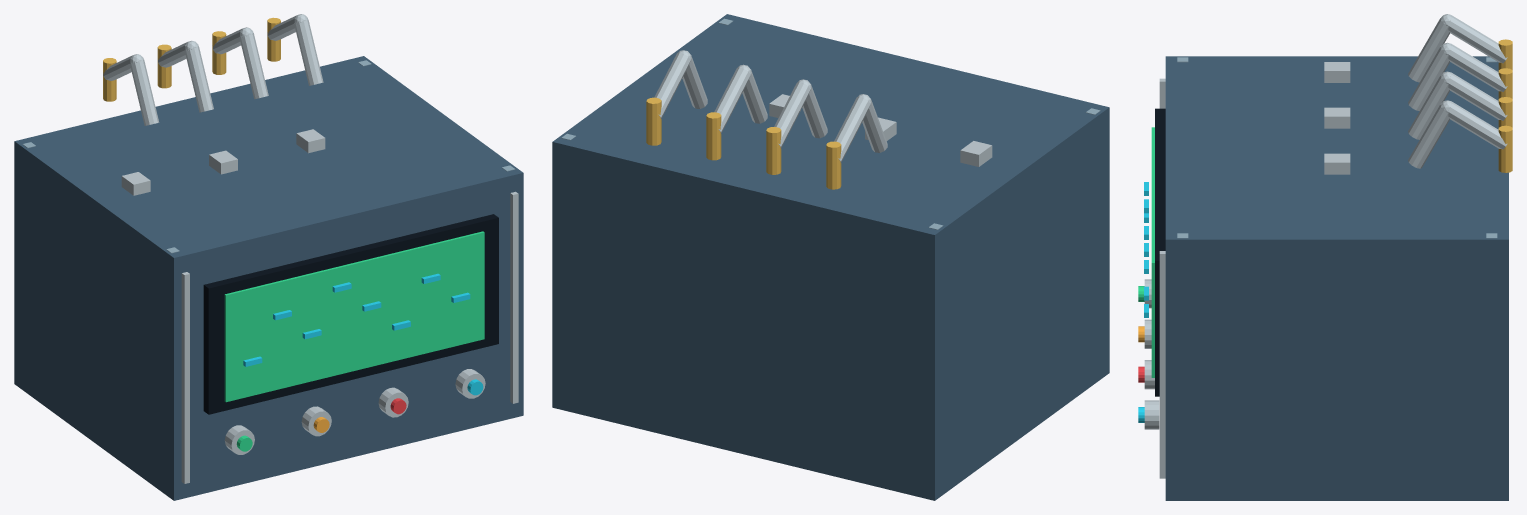
The model's file is 50_L75_SheetResistanceMetrologyProbe.fbx.
3 renders of one model, left to right at view 1: azimuth 30°, elevation 25°; view 2: azimuth 150°, elevation 25°; view 3: azimuth 270°, elevation 25°, orthographic. The views are drawn at different scales.
Parts seen in each view (by area): view 1: SheetResistanceMetrologyProbe; view 2: SheetResistanceMetrologyProbe; view 3: SheetResistanceMetrologyProbe.
Part boxes in pixels (<box>): SheetResistanceMetrologyProbe: <box>14,14,523,500</box>; SheetResistanceMetrologyProbe: <box>552,14,1109,500</box>; SheetResistanceMetrologyProbe: <box>1138,14,1512,500</box>.
Bounding box in the file's own units: 134 × 120 × 116.
